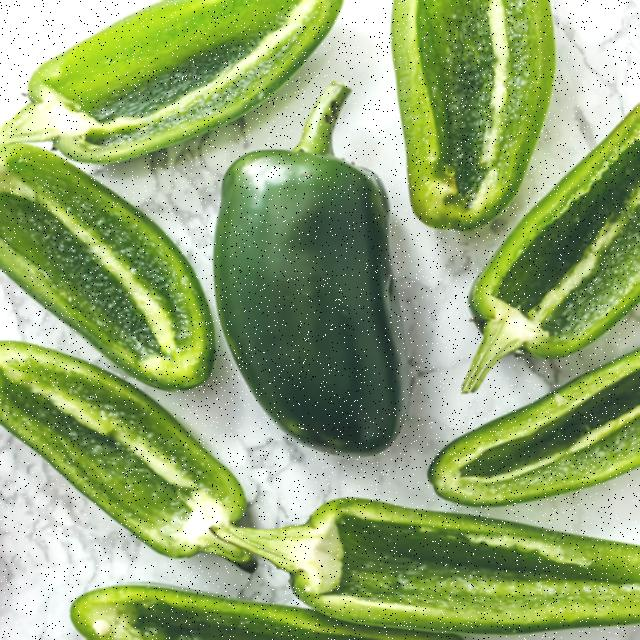Chili Pepper: (215, 82, 408, 456), (2, 343, 256, 573), (214, 499, 640, 634), (2, 0, 343, 162), (1, 144, 214, 390), (463, 106, 640, 393), (394, 0, 555, 229), (428, 351, 640, 507), (70, 586, 460, 640)
